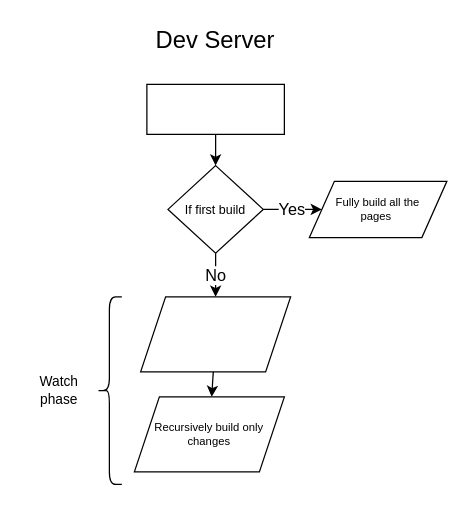
The diagram is 469 pixels wide and 506 high, and some of its shapes have lost their labels. The shapes that lost their labels are listed below. From the top down, each one's centre as x and y in pixels, then its label:
At point 215,108: "Running Dev Server".
At point 215,334: "Comapare Dir tree with previous tree".
